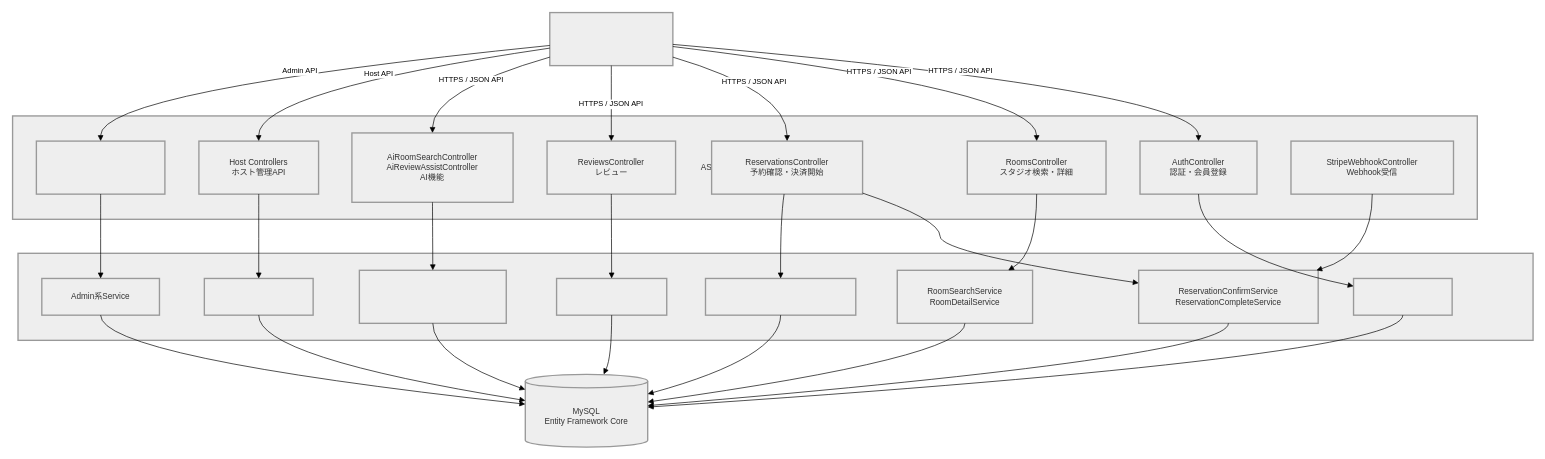
Some shapes in this 1545 by 459 pixel diagram are drawn without their labels. Here are the shapes that lost their labels. From the top down, the centre of each, then its label:
At point (611, 39): "Next.js Frontend Browser".
At point (100, 167): "Admin Controllers 管理者API".
At point (258, 296): "Host系Service".
At point (432, 296): "AiRoomSearchService AiReviewAssistService".
At point (611, 296): "ReviewService".
At point (780, 296): "StripeCheckoutService".
At point (1402, 296): "AuthService".
